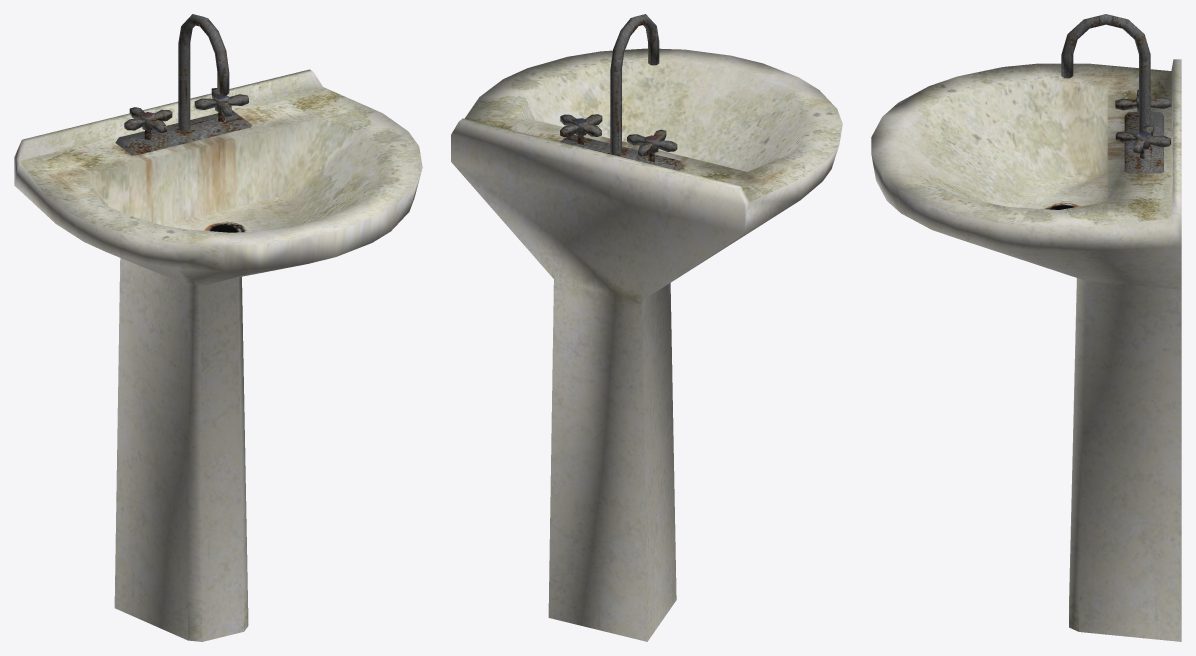
The model's file is bathroom_sink.obj.
3 views of the same model, side by side, from view 1: azimuth 30°, elevation 25°; view 2: azimuth 150°, elevation 25°; view 3: azimuth 270°, elevation 25° (orthographic). The views are drawn at different scales.
Parts seen in each view (by area): view 1: Model001_4_bathroom sink_1_0_0; view 2: Model001_4_bathroom sink_1_0_0; view 3: Model001_4_bathroom sink_1_0_0.
Part boxes in pixels (<box>): Model001_4_bathroom sink_1_0_0: <box>14,14,422,641</box>; Model001_4_bathroom sink_1_0_0: <box>451,14,842,641</box>; Model001_4_bathroom sink_1_0_0: <box>871,14,1181,641</box>.
Bounding box in the file's own units: 0.6633 × 1.14 × 0.5316.
